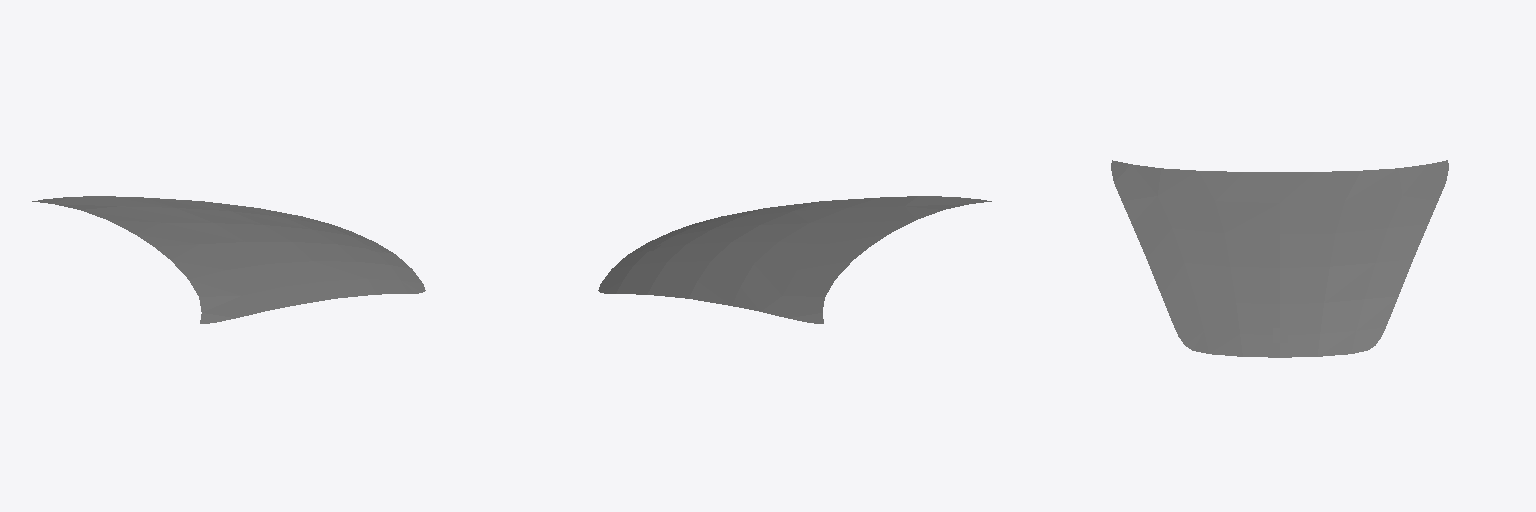
File: cofre2.obj
3 views of the same model, side by side, from view 1: azimuth 30°, elevation 25°; view 2: azimuth 150°, elevation 25°; view 3: azimuth 270°, elevation 25° (orthographic).
Visible parts, largest first — view 1: Object001; view 2: Object001; view 3: Object001.
Boxes of the visible parts, x1=… form: Object001: x1=32, y1=196, x2=425, y2=323; Object001: x1=598, y1=196, x2=991, y2=323; Object001: x1=1111, y1=160, x2=1448, y2=357.
Bounding box in the file's own units: 11 × 2.54 × 11.47.